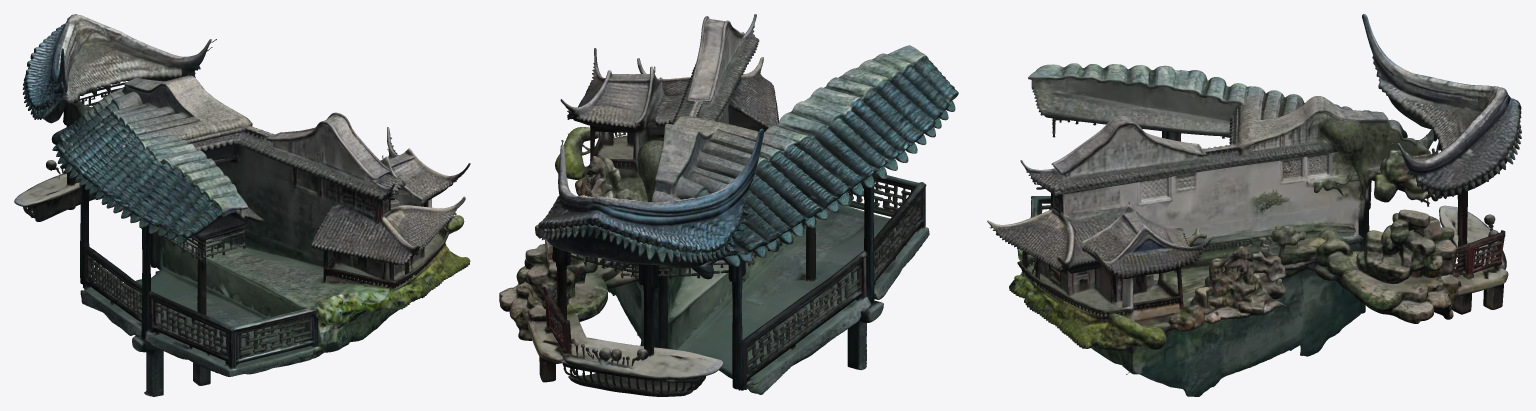
File: zhuozhengyuan.glb
The picture shows the model from 3 angles, left to right: view 1: azimuth 30°, elevation 25°; view 2: azimuth 150°, elevation 25°; view 3: azimuth 270°, elevation 25°; orthographic projection. The views are drawn at different scales.
Parts seen in each view (by area): view 1: tripo_node_e332c80a-49dd-40c5-909e-be61bd77263b; view 2: tripo_node_e332c80a-49dd-40c5-909e-be61bd77263b; view 3: tripo_node_e332c80a-49dd-40c5-909e-be61bd77263b.
Boxes of the visible parts, x1,y1,x2,y2 form: tripo_node_e332c80a-49dd-40c5-909e-be61bd77263b: (14,14,470,396); tripo_node_e332c80a-49dd-40c5-909e-be61bd77263b: (499,14,958,396); tripo_node_e332c80a-49dd-40c5-909e-be61bd77263b: (987,14,1521,396).
Size of the model in its own units: 0.7214 by 0.5955 by 0.9793.
1 material, 1 textured.
